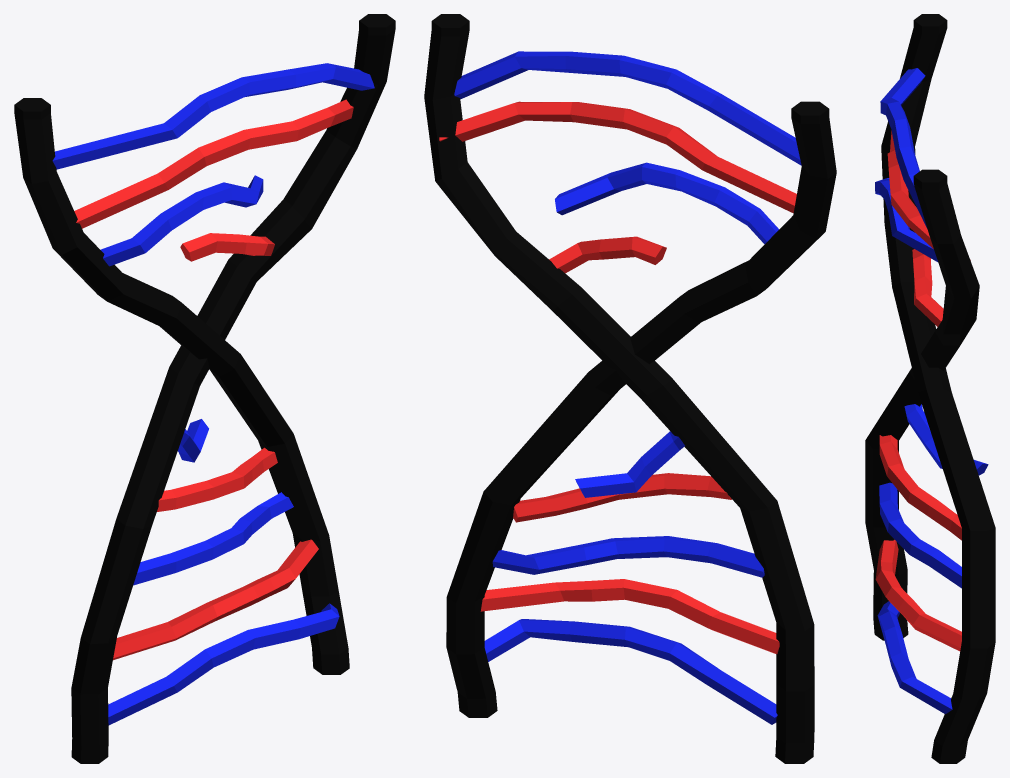
Rendered from ElementGene.fbx.
3 views of the same model, side by side, from view 1: azimuth 30°, elevation 25°; view 2: azimuth 150°, elevation 25°; view 3: azimuth 270°, elevation 25° (orthographic). The views are drawn at different scales.
Visible parts, largest first — view 1: Gene; view 2: Gene; view 3: Gene.
Boxes of the visible parts, x1,y1,x2,y2 form: Gene: [14, 14, 395, 763]; Gene: [424, 14, 836, 763]; Gene: [865, 14, 995, 763].
Size of the model in its own units: 278 by 461 by 91.2.
